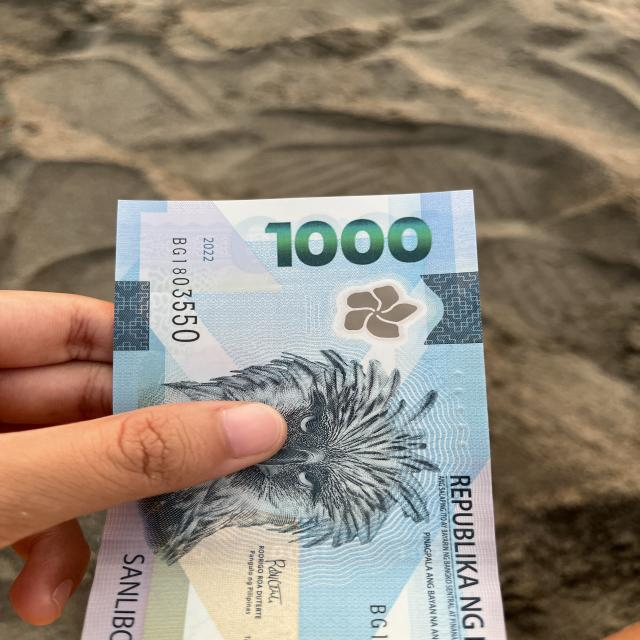eagle: (140, 338, 428, 558)
sampaguita: (329, 273, 434, 352)
